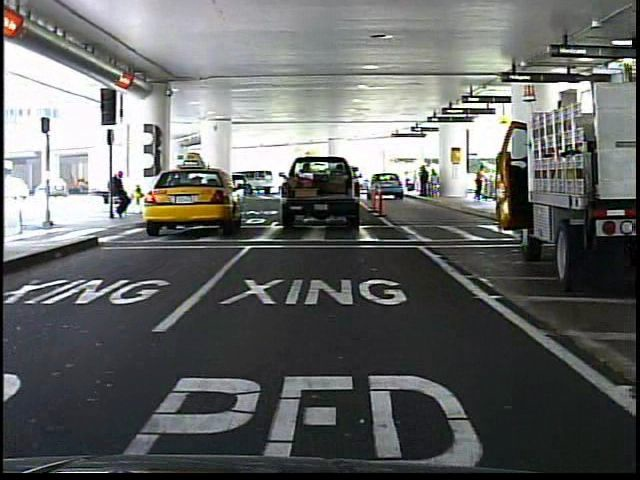person: (110, 164, 133, 221), (472, 159, 490, 205)
